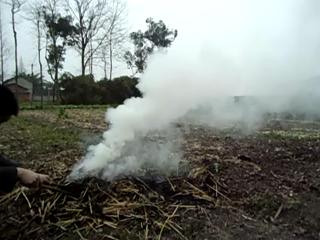yanwu: (74, 45, 274, 176)
